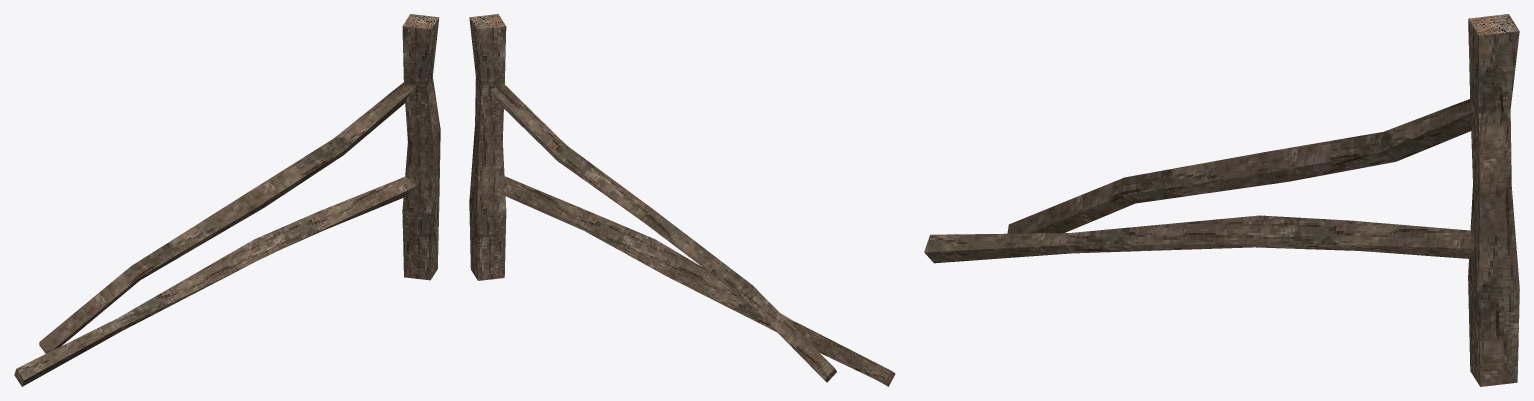
File: wooden_fence_broken.glb
3 renders of one model, left to right at view 1: azimuth 30°, elevation 25°; view 2: azimuth 150°, elevation 25°; view 3: azimuth 330°, elevation 25°, orthographic. The views are drawn at different scales.
Parts seen in each view (by area): view 1: wooden_fence_broken; view 2: wooden_fence_broken; view 3: wooden_fence_broken.
Part boxes in pixels (x1,y1,x2,y2): wooden_fence_broken: (14, 14, 440, 386); wooden_fence_broken: (469, 14, 895, 386); wooden_fence_broken: (924, 14, 1519, 386).
Bounding box in the file's own units: 2.63 × 1.59 × 0.3655.
Materials: 1 (1 with a texture image).
